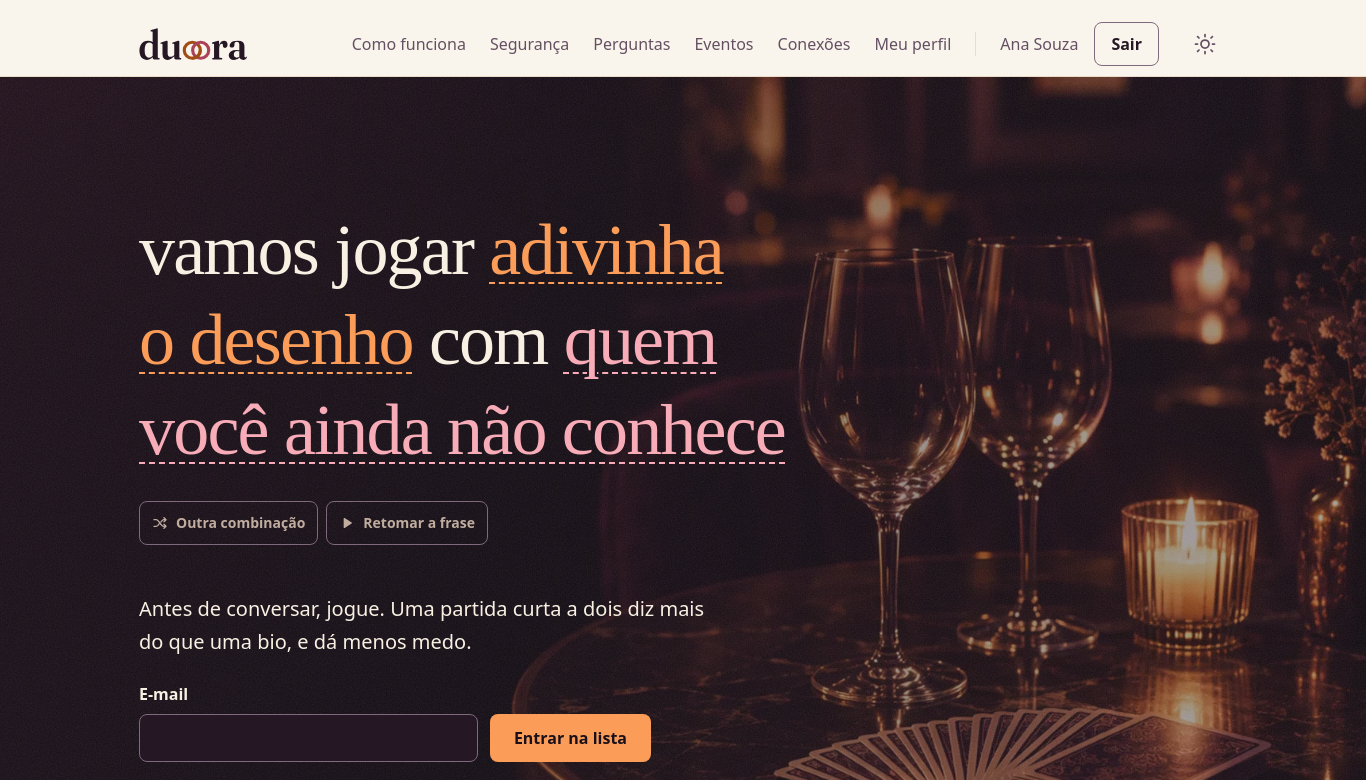
session controls (desktop) › alerts that the logout failed when the API refuses it, and lets the user try again
This screenshot has width=1366, height=780.
Click the button "Sair" at (1127,44), box [1094,22,1159,66]
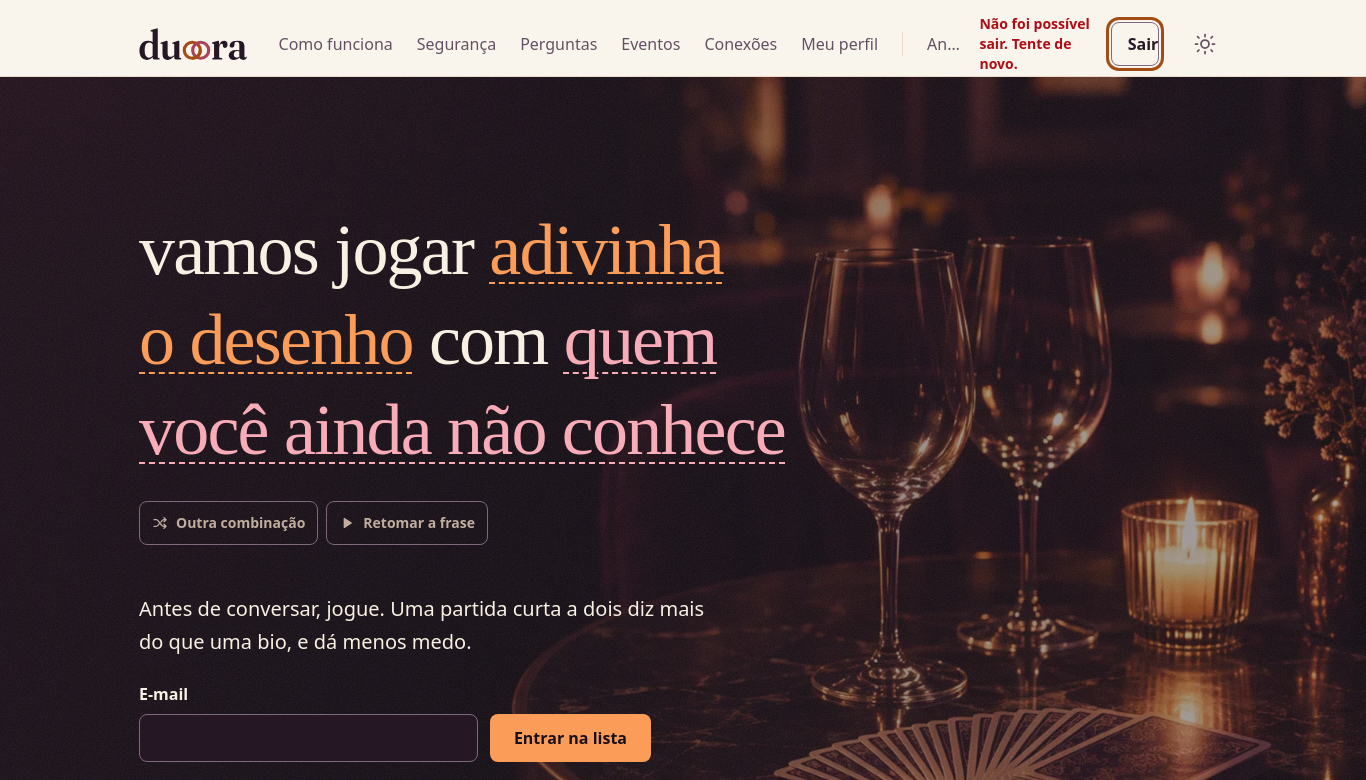
Expected: the button "Sair" is enabled, [1111,22,1159,66]
Expected: the message reads "Não foi possível sair. Tente de novo.", [980,14,1090,73]
